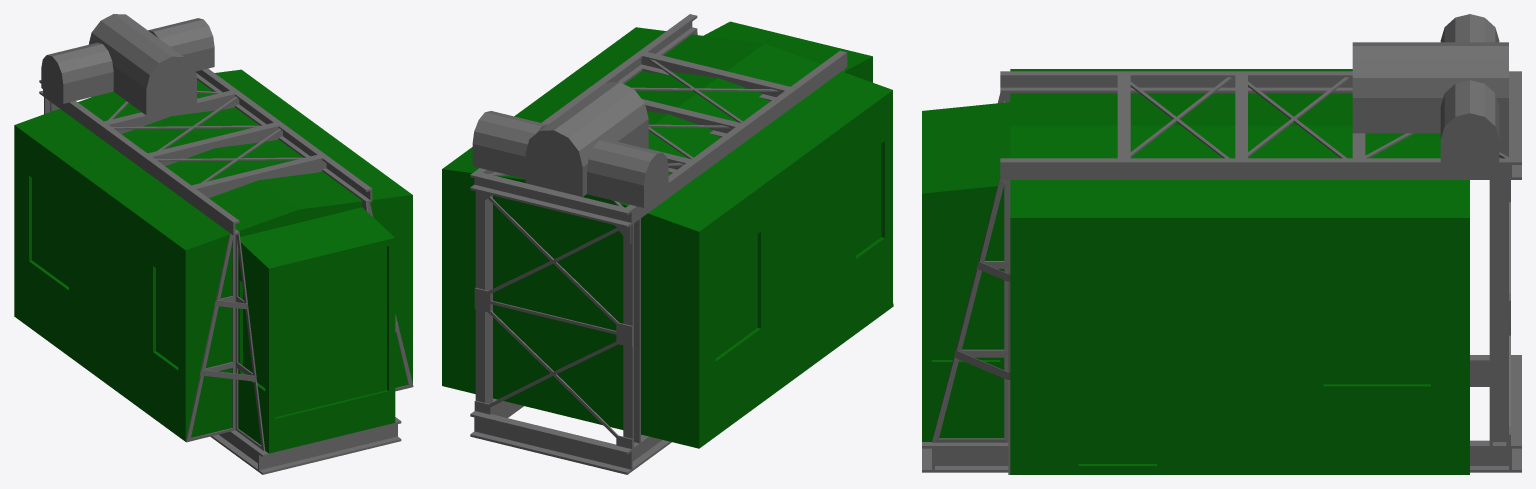
The model's file is kran50_Cabin.fbx.
The picture shows the model from 3 angles, left to right: view 1: azimuth 30°, elevation 25°; view 2: azimuth 150°, elevation 25°; view 3: azimuth 270°, elevation 25°; orthographic projection. The views are drawn at different scales.
Parts seen in each view (by area): view 1: Cabin, Cage; view 2: Cabin, Cage; view 3: Cabin, Cage.
Boxes of the visible parts, x1,y1,x2,y2 form: Cabin: [14, 69, 412, 453]; Cage: [39, 14, 413, 474]; Cabin: [442, 21, 892, 448]; Cage: [470, 14, 893, 474]; Cabin: [922, 69, 1469, 474]; Cage: [922, 14, 1521, 474].
Bounding box in the file's own units: 360 × 430 × 613.
